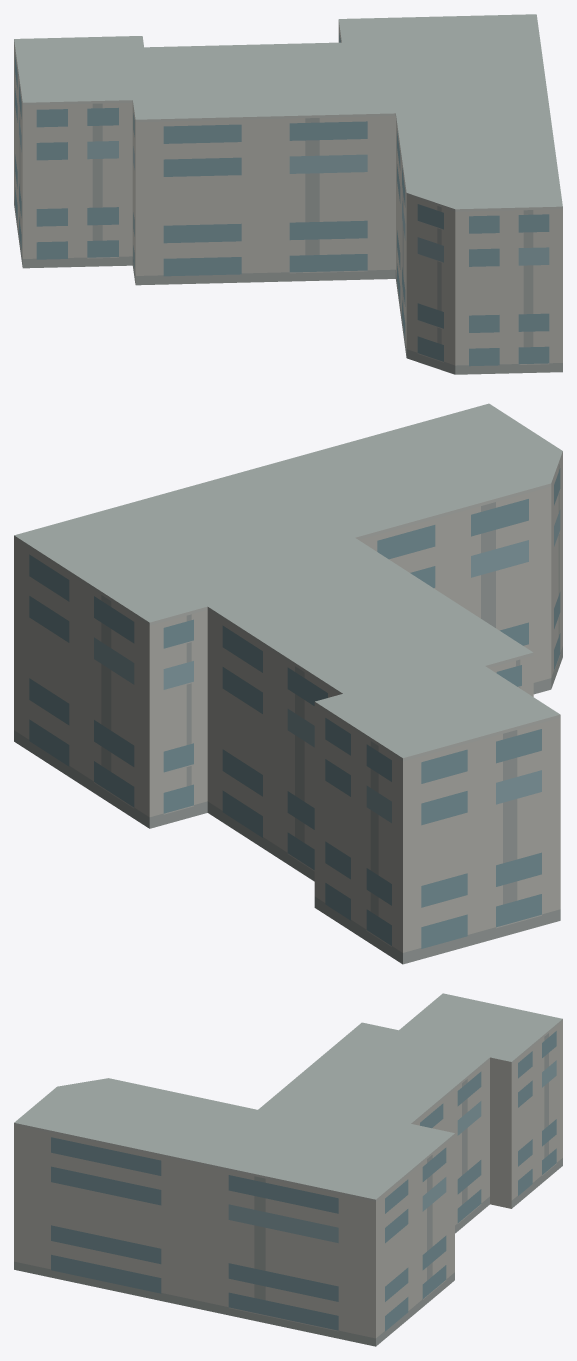
Rendered from residential-d26dd5c2-4736-4f7b-b152-1ddfcdcf1918.glb.
The picture shows the model from 3 angles, top to bottom: view 1: azimuth 30°, elevation 25°; view 2: azimuth 150°, elevation 25°; view 3: azimuth 270°, elevation 25°; orthographic projection. The views are drawn at different scales.
Parts seen in each view (by area): view 1: residential-d26dd5c2-4736-4f7b-b152-1ddfcdcf1918.tmp; view 2: residential-d26dd5c2-4736-4f7b-b152-1ddfcdcf1918.tmp; view 3: residential-d26dd5c2-4736-4f7b-b152-1ddfcdcf1918.tmp.
Boxes of the visible parts, <box> form: residential-d26dd5c2-4736-4f7b-b152-1ddfcdcf1918.tmp: <box>14,14,562,374</box>; residential-d26dd5c2-4736-4f7b-b152-1ddfcdcf1918.tmp: <box>14,403,562,964</box>; residential-d26dd5c2-4736-4f7b-b152-1ddfcdcf1918.tmp: <box>14,993,562,1346</box>.
Bounding box in the file's own units: 45.94 × 15.25 × 51.63.
